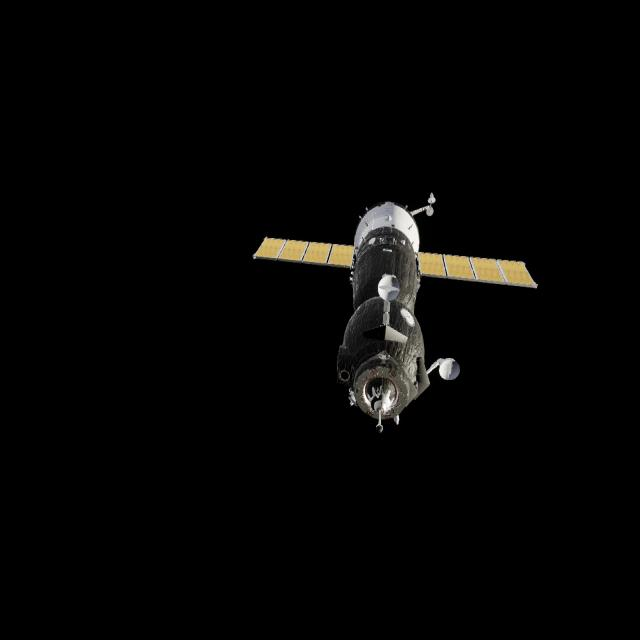Satellites revolving around earth: (250, 190, 539, 435)
